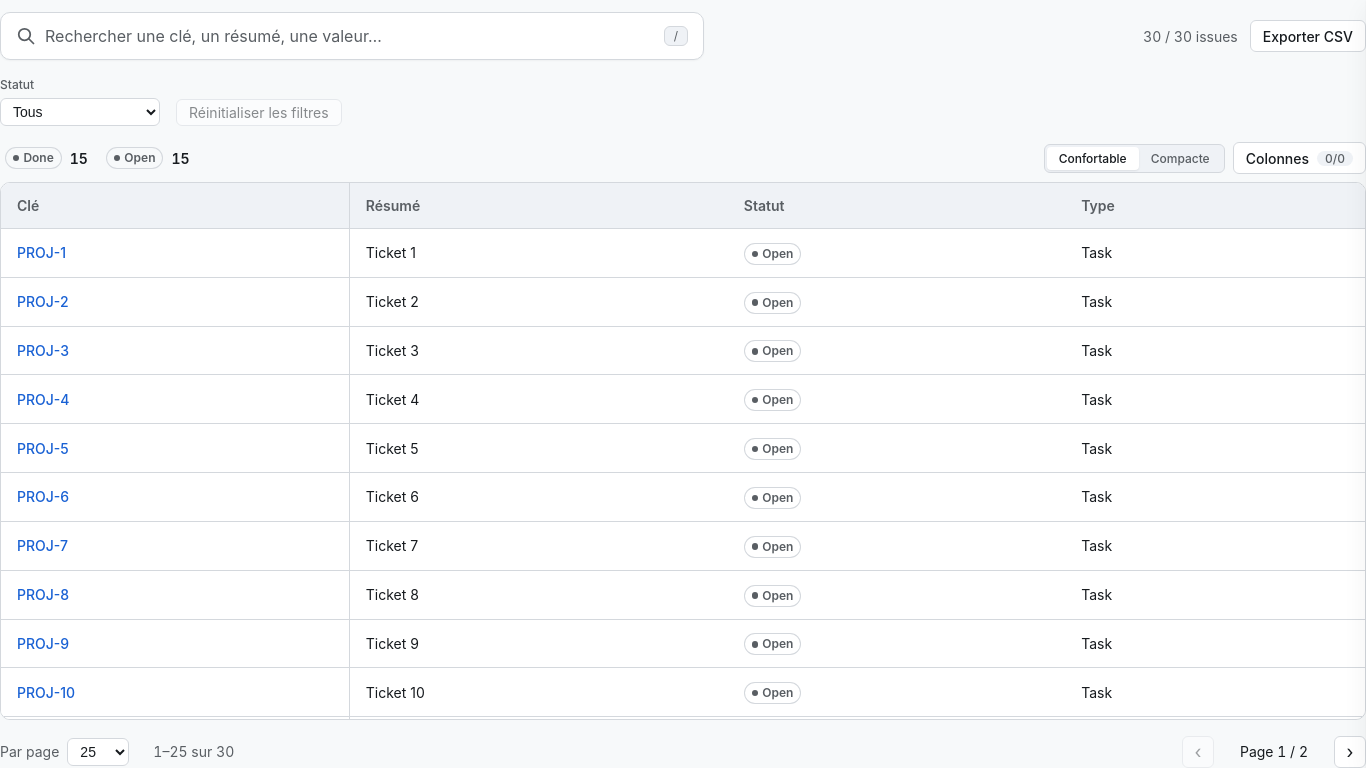
it: IssueList › pagination › shows 25 issues per page by default and navigates to the next page
(page scrolled)
Expected: the text "1–25 sur 30" is shown, [153, 741, 234, 762]
Expected: the button named "Page précédente" is disabled, [1182, 736, 1214, 767]
Click the button named "Page suivante" at [1350, 752], box [1334, 736, 1365, 767]
(page scrolled)
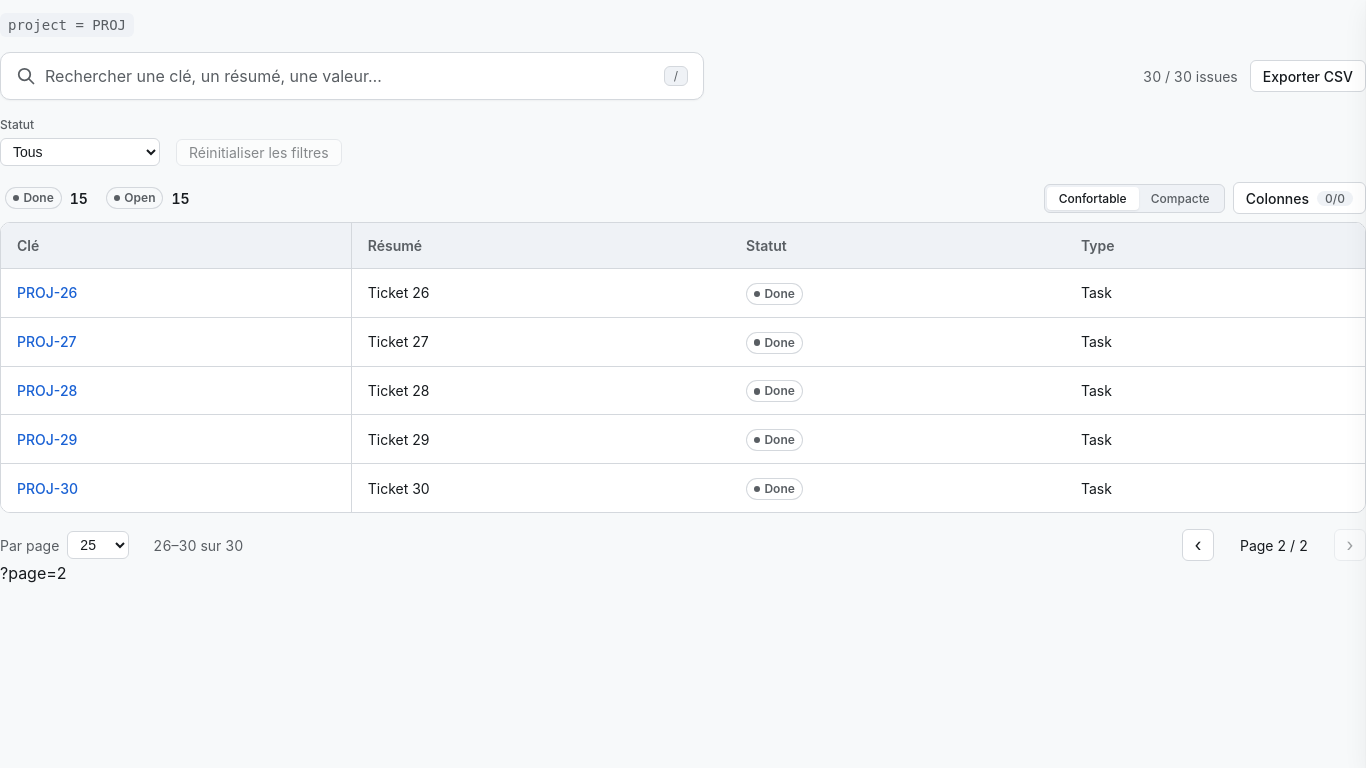
Expected: the button "PROJ-26" is shown, [17, 282, 77, 303]
Expected: the button "PROJ-1" is gone
Expected: the text "26–30 sur 30" is shown, [153, 535, 243, 556]
